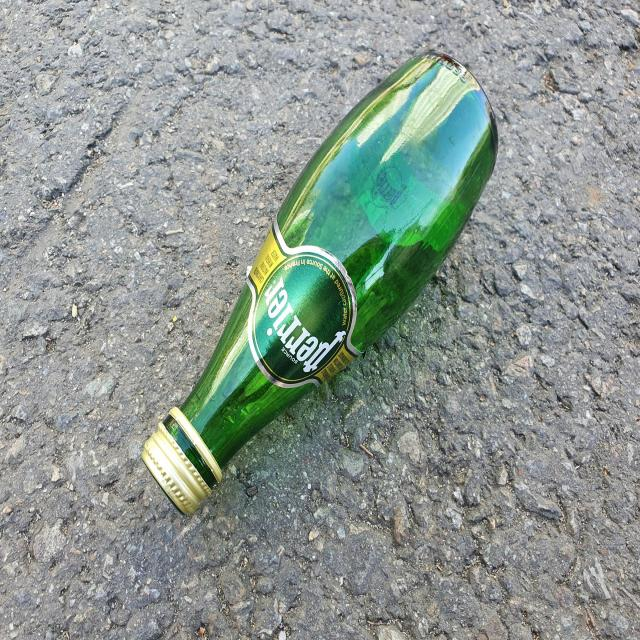glass: (141, 53, 498, 514)
